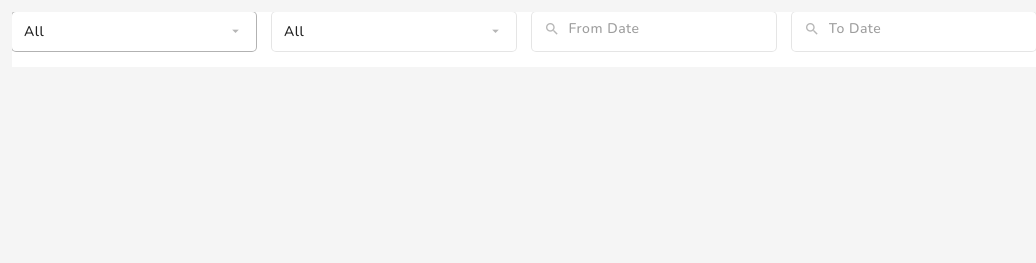
Scenario: ReportFilters › status select shows "All" plus 4 status labels
The image size is (1036, 263).
Click the button with aria-label "Status".
click(394, 32)  # box left=272, top=12, right=516, bottom=51
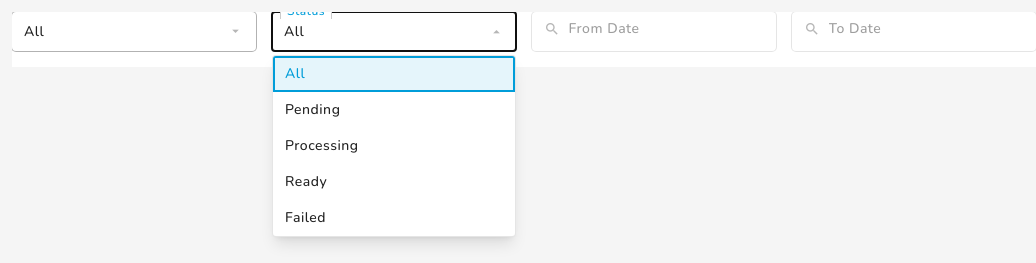
Expected: the list named "Status" shows "All", left=285, top=64, right=305, bottom=83
Expected: the option "Pending" is shown, left=285, top=100, right=340, bottom=119
Expected: the option "Processing" is shown, left=285, top=136, right=359, bottom=155
